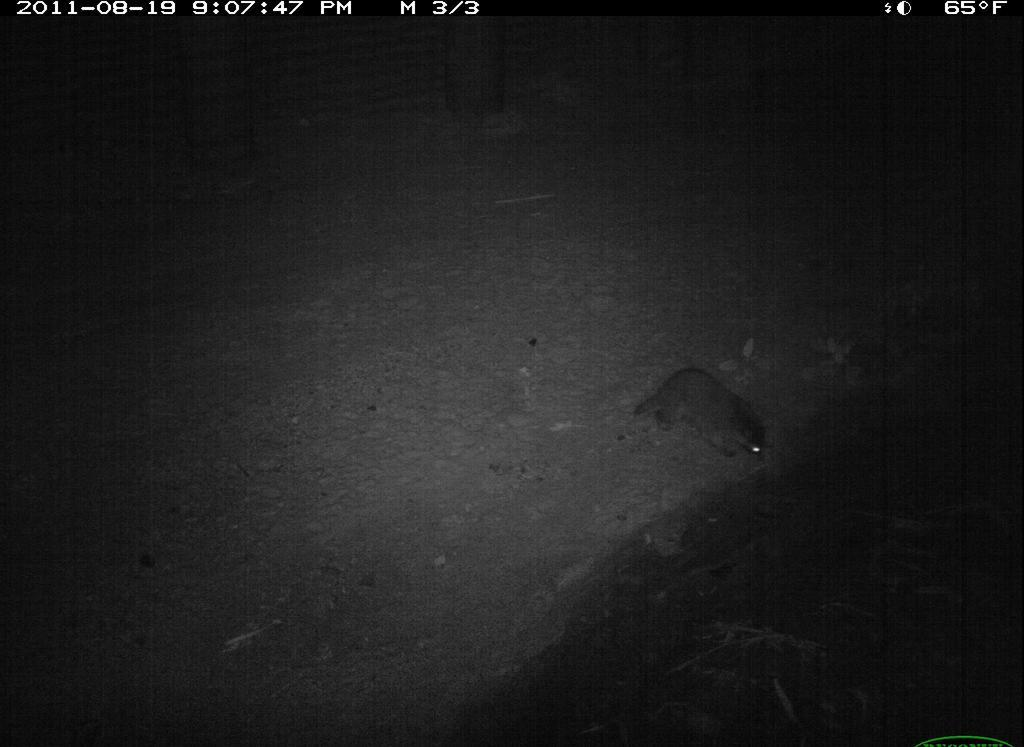raccoon: (614, 359, 779, 486)
